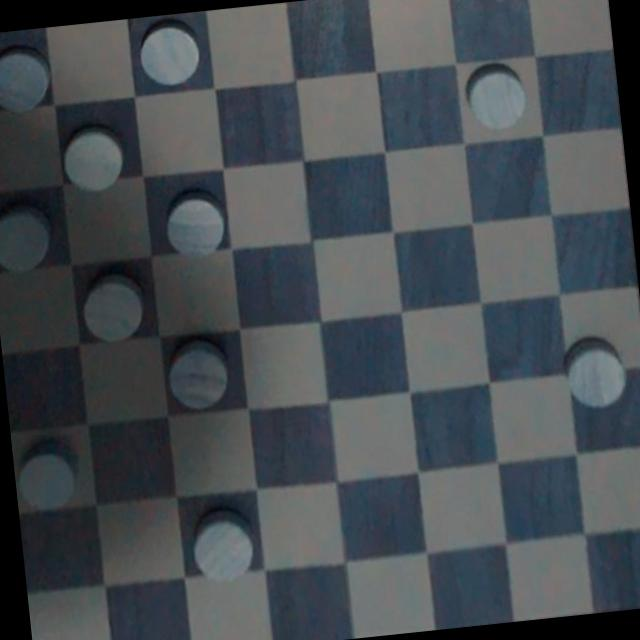BOARD: (0, 0, 640, 640)
white: (552, 329, 632, 420), (184, 503, 264, 588), (158, 332, 234, 418), (459, 56, 532, 136), (14, 441, 86, 522), (132, 18, 205, 92), (162, 187, 232, 264), (80, 270, 150, 346), (59, 126, 130, 197), (0, 40, 61, 121), (0, 202, 57, 283)
